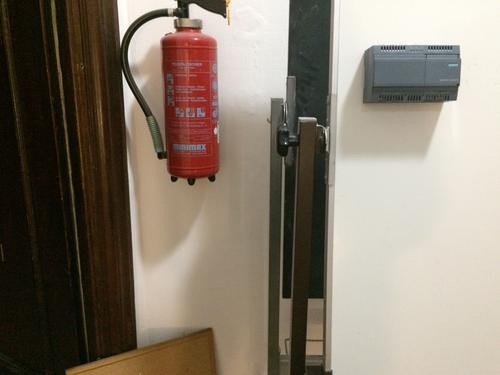iot2000: (362, 43, 462, 104)
